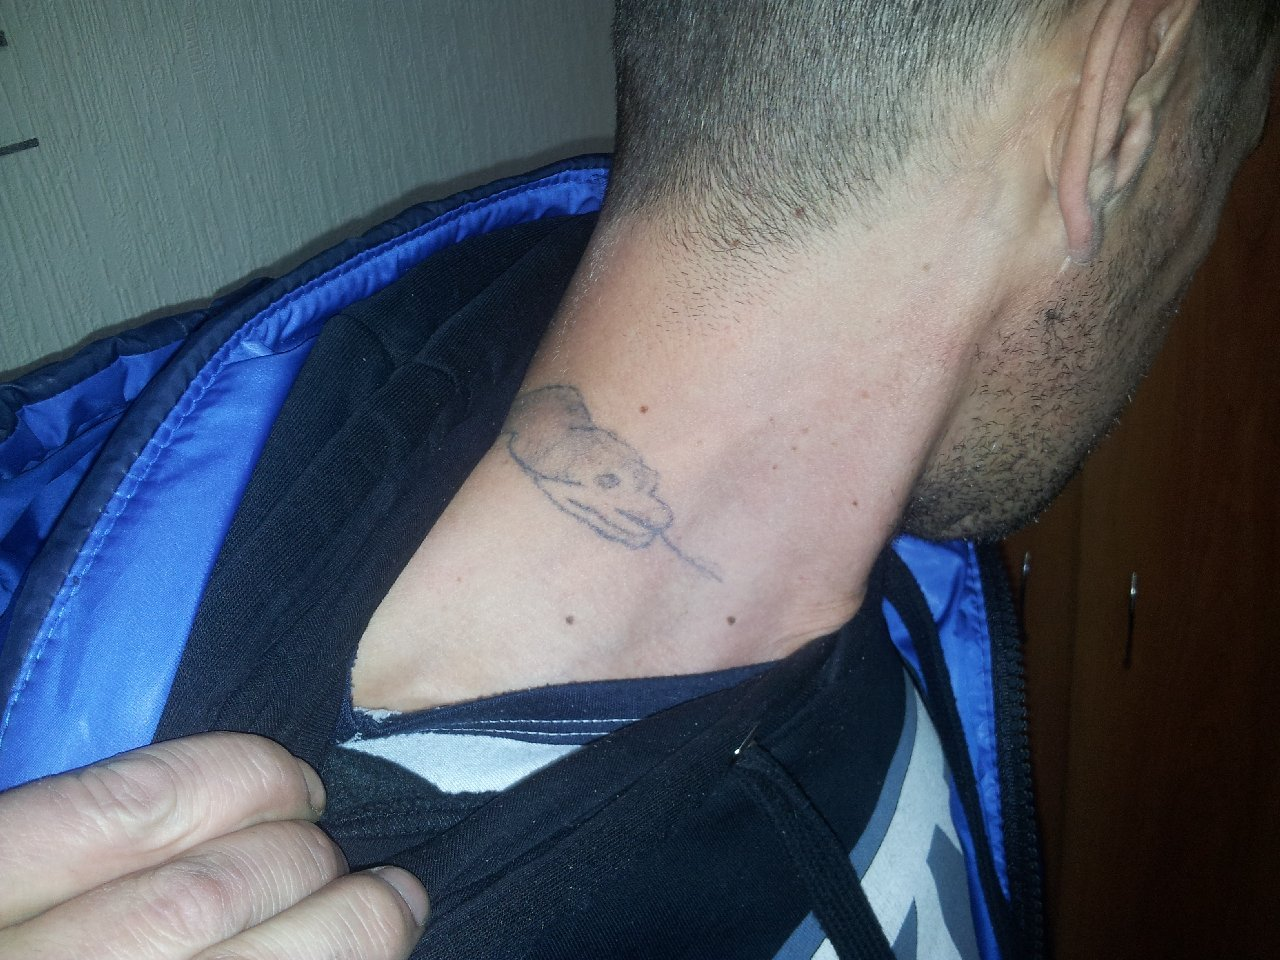tatu7_zmeya: (506, 370, 725, 611)
